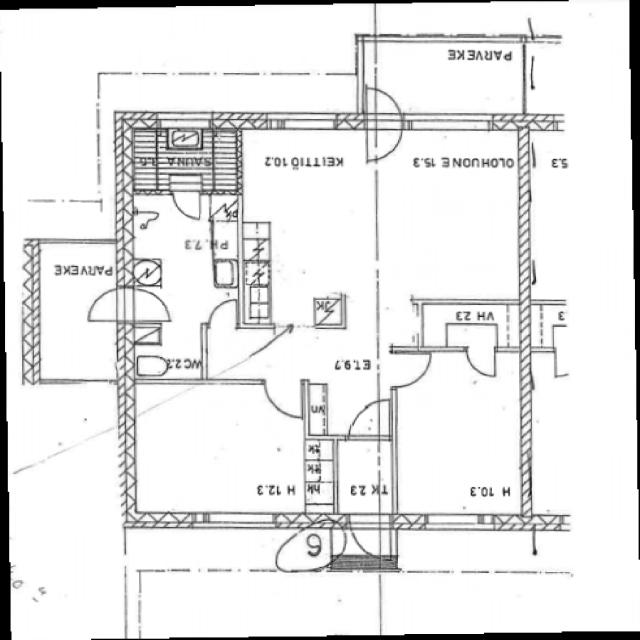door: (346, 515, 389, 560), (346, 399, 388, 442), (387, 351, 432, 390), (129, 286, 172, 324), (265, 383, 305, 422), (84, 286, 124, 324), (367, 122, 405, 162), (204, 295, 241, 332), (463, 344, 499, 381), (170, 185, 205, 222), (367, 87, 402, 121)
window: (406, 511, 528, 537), (404, 109, 516, 132), (269, 114, 342, 133)
zone: (376, 123, 528, 306), (241, 130, 375, 336), (133, 380, 309, 522), (389, 348, 528, 524), (29, 241, 122, 386), (137, 126, 240, 193), (416, 300, 522, 349), (333, 438, 394, 518), (273, 522, 335, 573)
